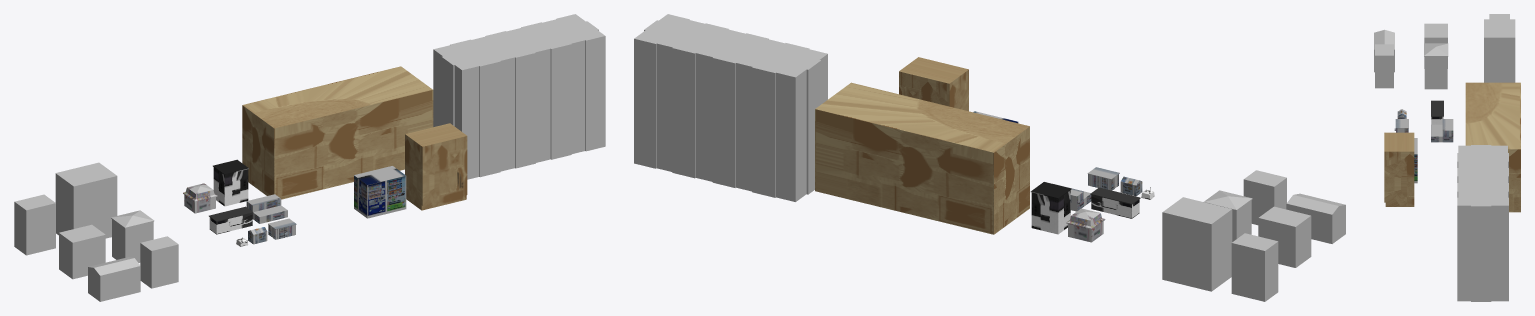
Rendered from BuildingsModels.fbx.
3 renders of one model, left to right at view 1: azimuth 30°, elevation 25°; view 2: azimuth 150°, elevation 25°; view 3: azimuth 270°, elevation 25°, orthographic. The views are drawn at different scales.
Visible parts, largest first — view 1: Material_016-material, Material_007-material, Material_008-material, Material_014-material, Material_001-material, Material_015-material, Material_011-material, Material_013-material, Material_012-material, Material_010-material, Material_006-material, Material_005-material (+3 smaller); view 2: Material_016-material, Material_007-material, Material_014-material, Material_015-material, Material_008-material, Material_011-material, Material_013-material, Material_006-material, Material_012-material, Material_010-material, Material_005-material, Material_009-material (+1 smaller); view 3: Material_016-material, Material_007-material, Material_008-material, Material_014-material, Material_010-material, Material_012-material, Material_011-material, Material_004-material, Material_013-material, Material_005-material, Material-material, Material_001-material (+1 smaller).
Part boxes in pixels (x1,y1,x2,y2): Material_016-material: (433,14,605,179); Material_007-material: (242,66,433,199); Material_008-material: (405,123,467,210); Material_014-material: (55,162,117,238); Material_001-material: (354,166,406,218); Material_015-material: (14,194,55,255); Material_011-material: (59,224,105,279); Material_013-material: (88,257,140,301); Material_012-material: (140,236,178,288); Material_010-material: (111,210,154,262); Material_006-material: (213,159,248,206); Material_005-material: (209,206,253,234); Material_016-material: (634,14,827,201); Material_007-material: (815,82,1029,234); Material_014-material: (1162,197,1232,291); Material_015-material: (1231,233,1278,301); Material_008-material: (899,57,968,111); Material_011-material: (1258,206,1311,267); Material_013-material: (1286,193,1345,243); Material_006-material: (1030,182,1071,234); Material_012-material: (1243,170,1286,225); Material_010-material: (1204,190,1252,241); Material_005-material: (1090,187,1140,218); Material_009-material: (1066,208,1105,242); Material_016-material: (1457,145,1508,301); Material_007-material: (1465,82,1520,212); Material_008-material: (1384,132,1414,206); Material_014-material: (1484,19,1515,82); Material_010-material: (1424,43,1448,89); Material_012-material: (1375,44,1393,88); Material_011-material: (1424,23,1447,68); Material_004-material: (1431,119,1453,142); Material_013-material: (1374,29,1394,72); Material_005-material: (1431,100,1443,124); Material-material: (1394,119,1408,132); Material_001-material: (1414,138,1417,183).
Size of the model in its own units: 11009 by 2073 by 2888.
